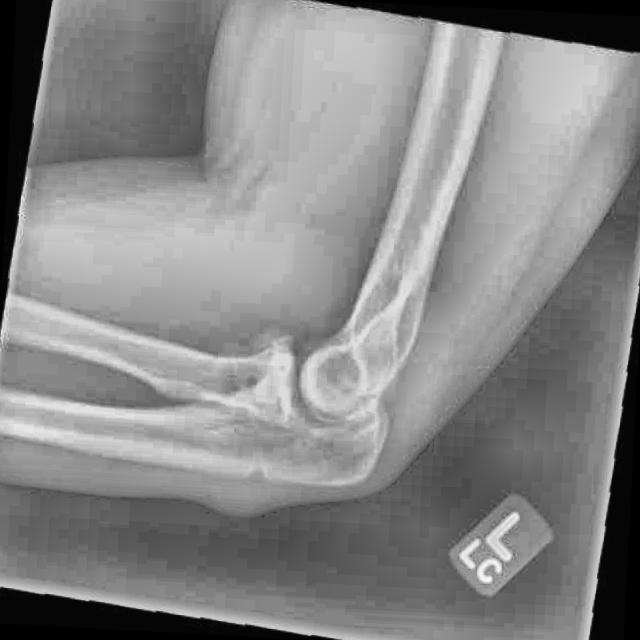elbow positive: (219, 436, 310, 503)
